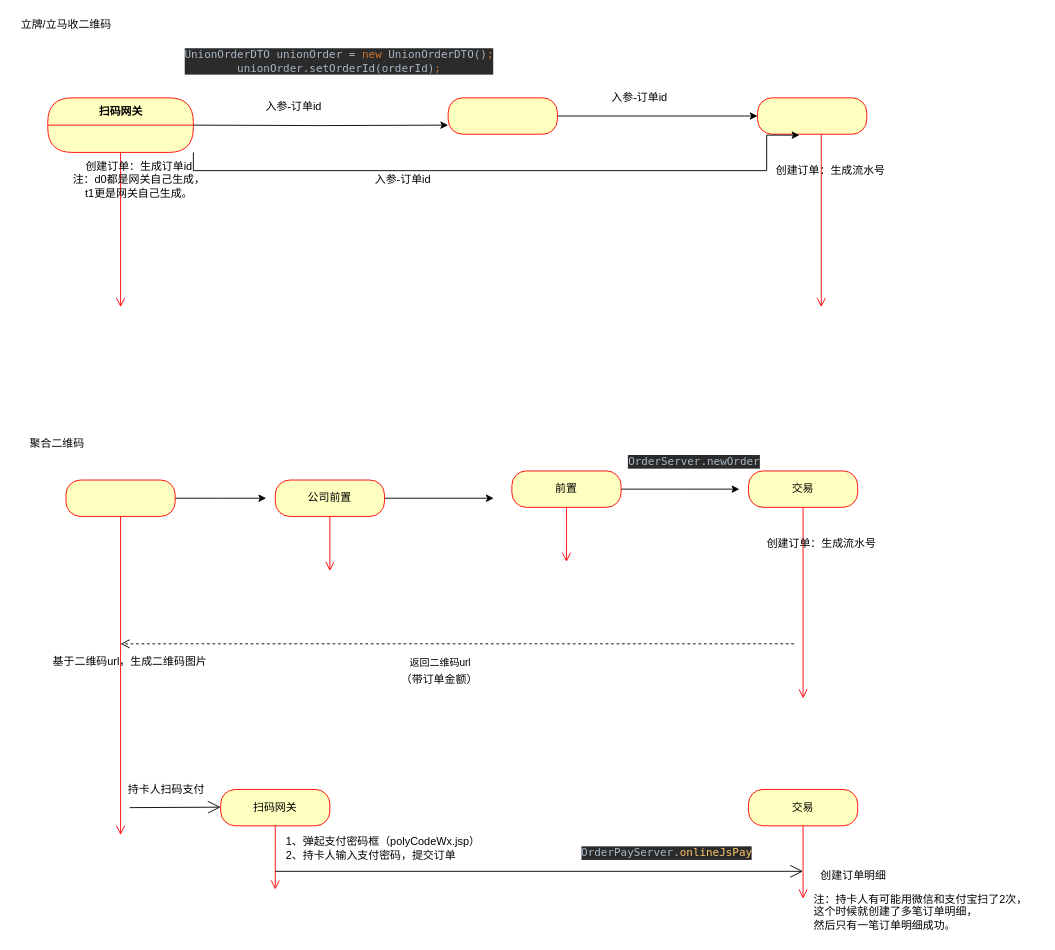
Image size: 1055x950. Some labels were removed from this diagram. The shapes that lost their labels are listed below. From the top down, each one's box as (x1, y1, x2, y2) in pixels, then its label:
(447, 97, 557, 134): 统一订单
(757, 97, 867, 134): qrcode-server
(65, 479, 175, 516): 外部客户端
